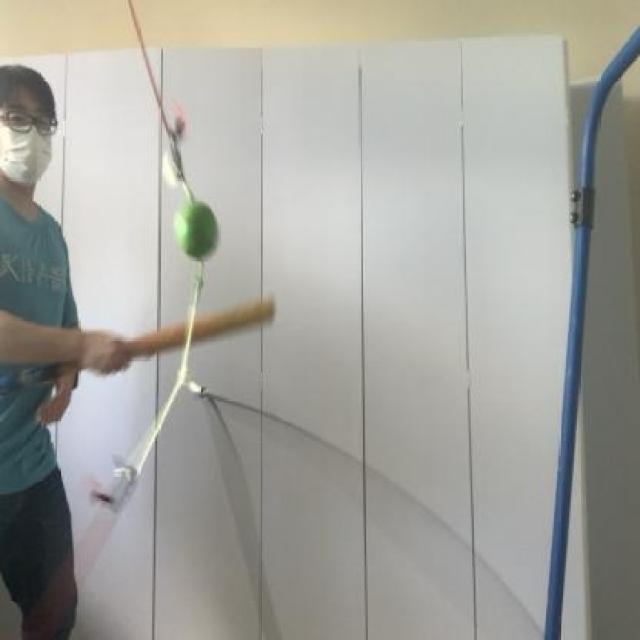baseball: (162, 196, 236, 264)
